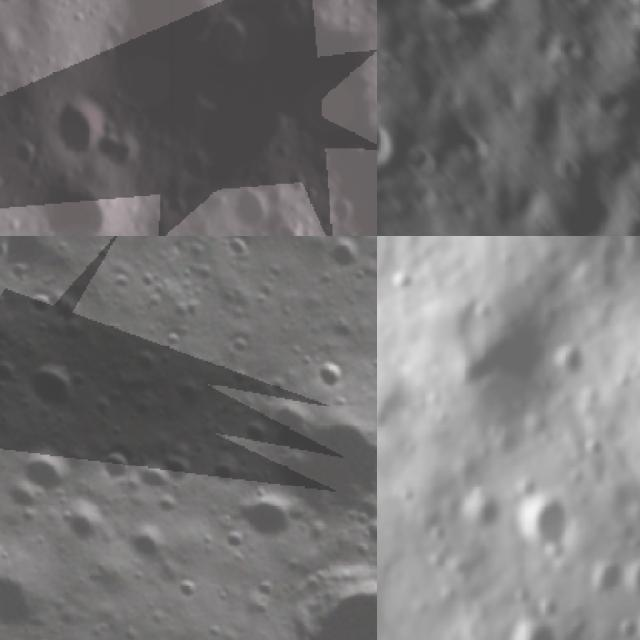crater: (228, 351, 377, 564), (258, 520, 377, 640), (10, 344, 96, 430), (229, 476, 310, 558), (0, 543, 62, 640), (13, 433, 86, 506), (512, 488, 578, 554), (54, 95, 106, 166), (42, 181, 108, 236), (60, 494, 120, 554), (122, 518, 175, 572), (0, 472, 49, 526), (308, 349, 359, 400), (316, 236, 371, 281), (94, 440, 143, 489), (579, 556, 626, 606), (456, 488, 504, 536), (155, 444, 202, 492), (549, 336, 597, 382), (166, 566, 212, 612), (200, 451, 245, 497), (411, 0, 504, 22), (170, 369, 215, 414), (452, 123, 498, 167), (234, 411, 279, 455), (591, 77, 633, 124), (402, 138, 445, 180), (125, 340, 166, 382), (505, 613, 566, 640), (548, 147, 591, 185), (235, 184, 266, 236), (214, 522, 254, 562), (150, 486, 187, 523), (377, 116, 401, 173), (248, 568, 285, 604), (136, 459, 172, 496), (356, 508, 377, 562), (0, 353, 24, 399), (28, 288, 60, 320), (553, 32, 586, 62), (222, 236, 257, 263), (626, 17, 640, 83), (377, 47, 402, 81), (625, 550, 640, 604), (377, 392, 395, 435), (621, 210, 640, 236), (295, 236, 332, 246)
